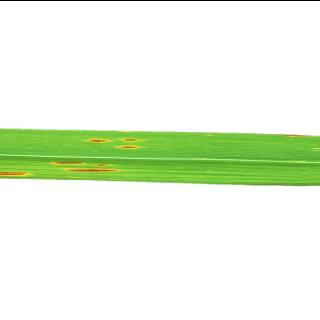Bercak-Cokelat-Sempit: (63, 166, 121, 173), (0, 169, 35, 177), (81, 135, 114, 143), (112, 143, 149, 149), (116, 135, 150, 141), (49, 159, 85, 164), (89, 161, 114, 166), (65, 174, 88, 178)
